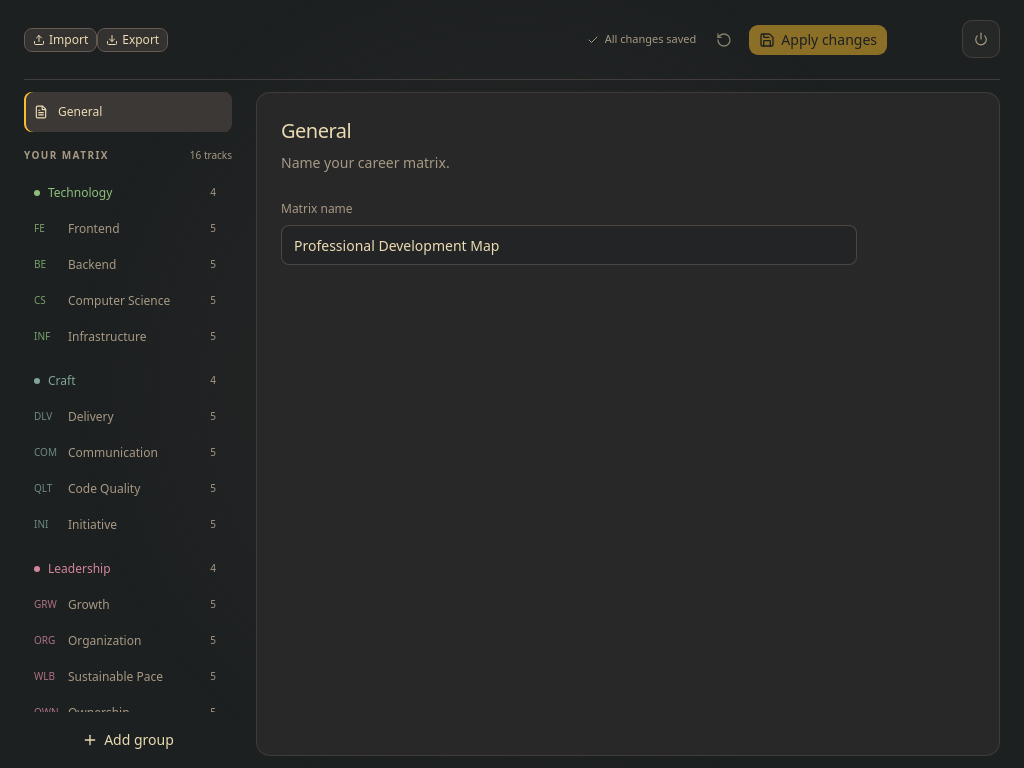
Test: <SettingsScreen /> › reports export failure without changing the document
Step 1. Click the button "Export" → (133, 40), box [97,28,168,52]
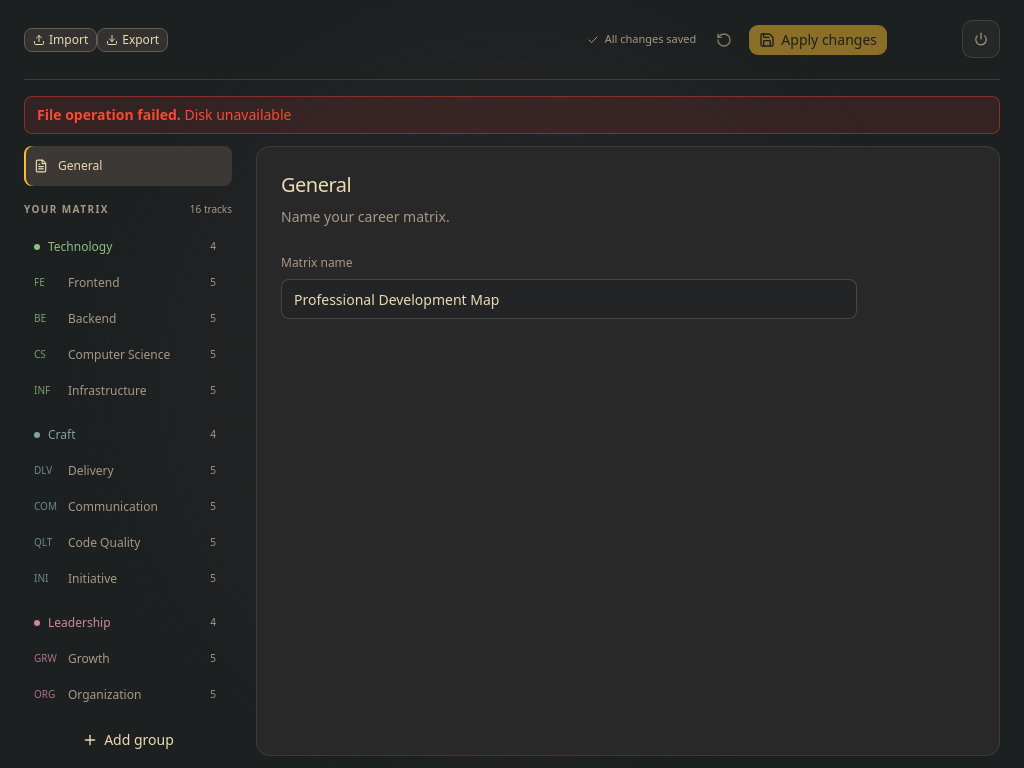
Expected: the message shows "Disk unavailable", [184,105,292,124]
